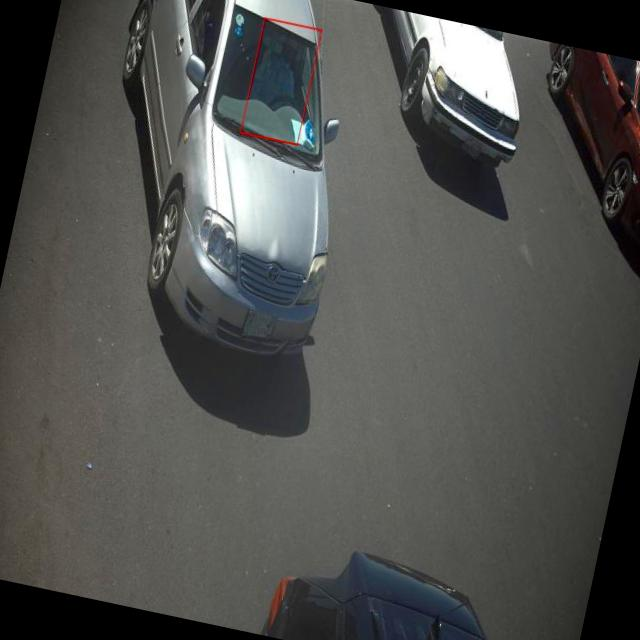person_without_seatbelt: (245, 24, 318, 124)
